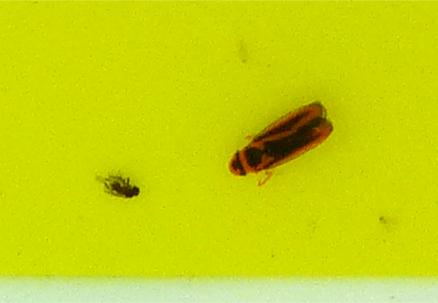Brachycera: (100, 170, 144, 203)
Hemiptera: (224, 100, 338, 182)
